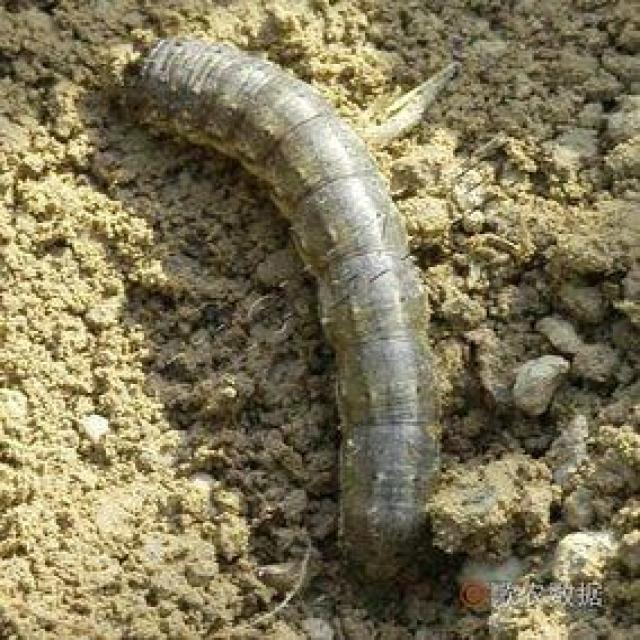black cutworm: (107, 34, 445, 577)
